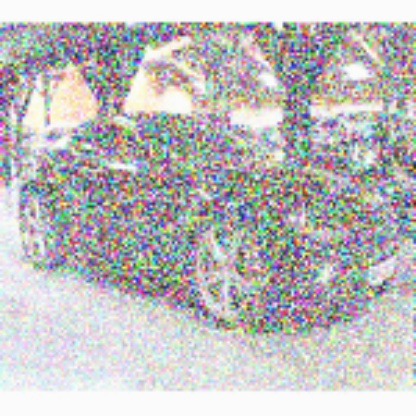Vehicle: (16, 106, 410, 356)
